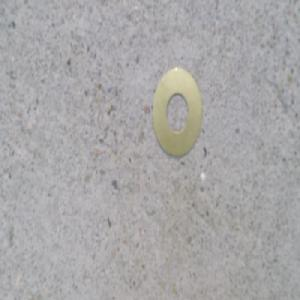Washer: (150, 64, 202, 157)
